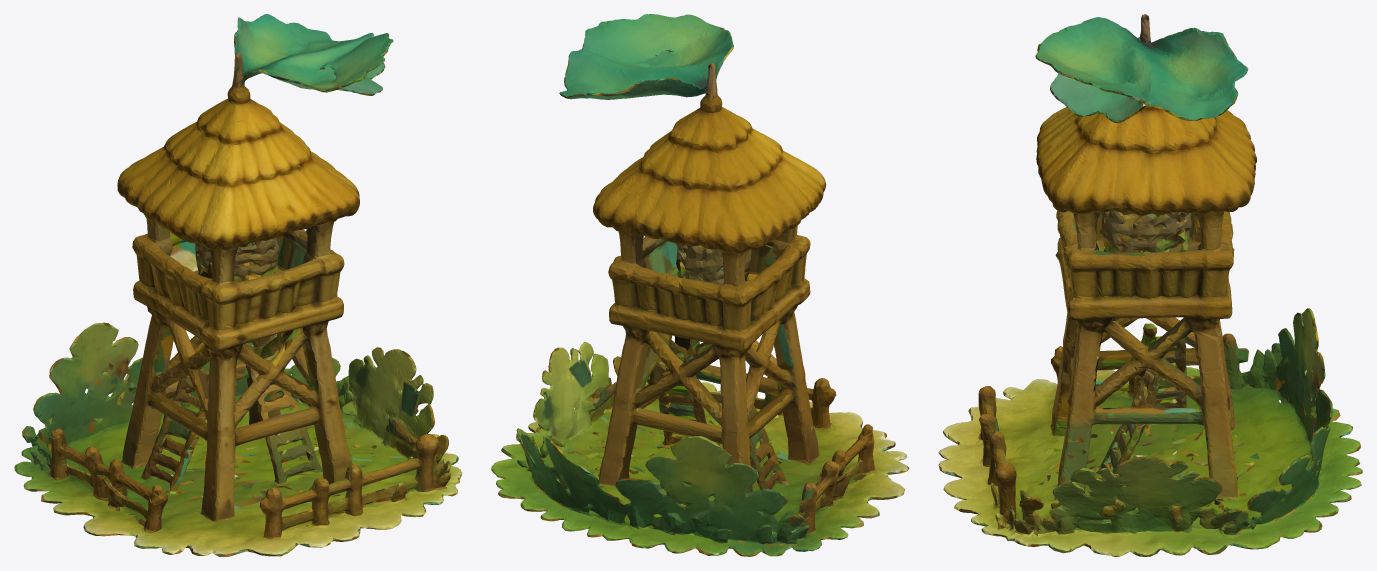
File: wc-watchpost-paint.glb
3 views of the same model, side by side, from view 1: azimuth 30°, elevation 25°; view 2: azimuth 150°, elevation 25°; view 3: azimuth 270°, elevation 25° (orthographic). The views are drawn at different scales.
Visible parts, largest first — view 1: geometry_0; view 2: geometry_0; view 3: geometry_0.
Boxes of the visible parts, <box> form: geometry_0: <box>14,14,462,556</box>; geometry_0: <box>491,14,909,556</box>; geometry_0: <box>938,14,1362,556</box>.
Size of the model in its own units: 1.81 by 2 by 1.71.
Materials: 1 (1 with a texture image).
